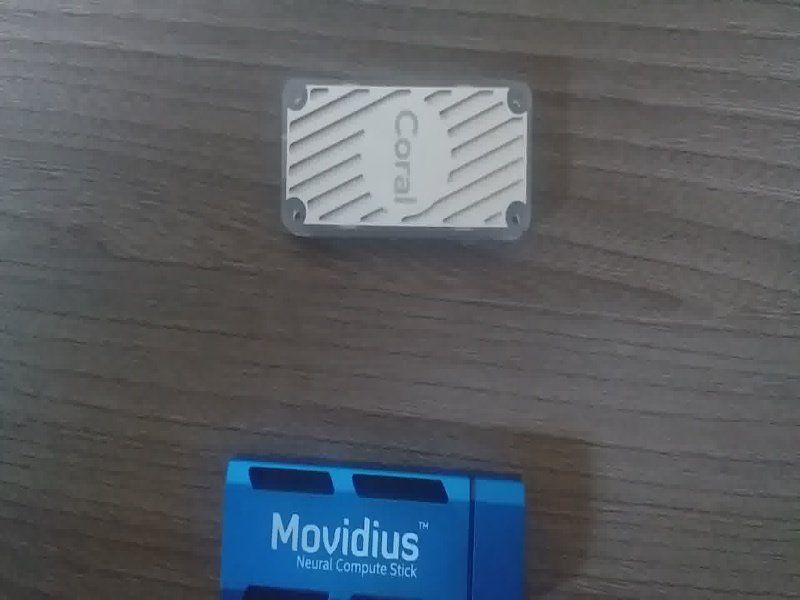coral: (277, 75, 543, 260)
movidius: (217, 443, 529, 600)
